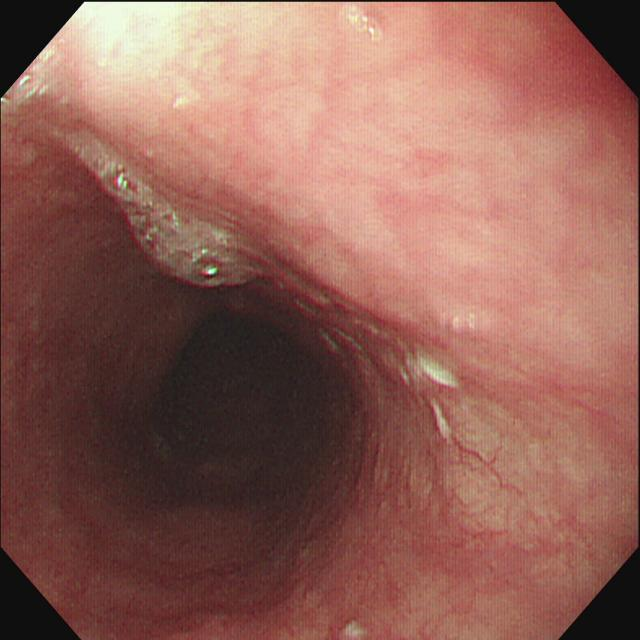E: (148, 301, 318, 472)
J: (397, 346, 467, 444)
T: (56, 132, 263, 289), (334, 5, 386, 51)
